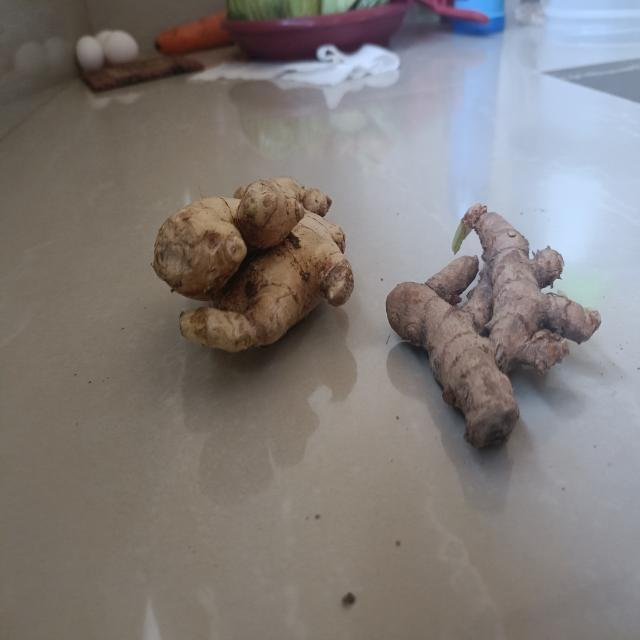ginger: (375, 195, 608, 458), (142, 168, 360, 354)
